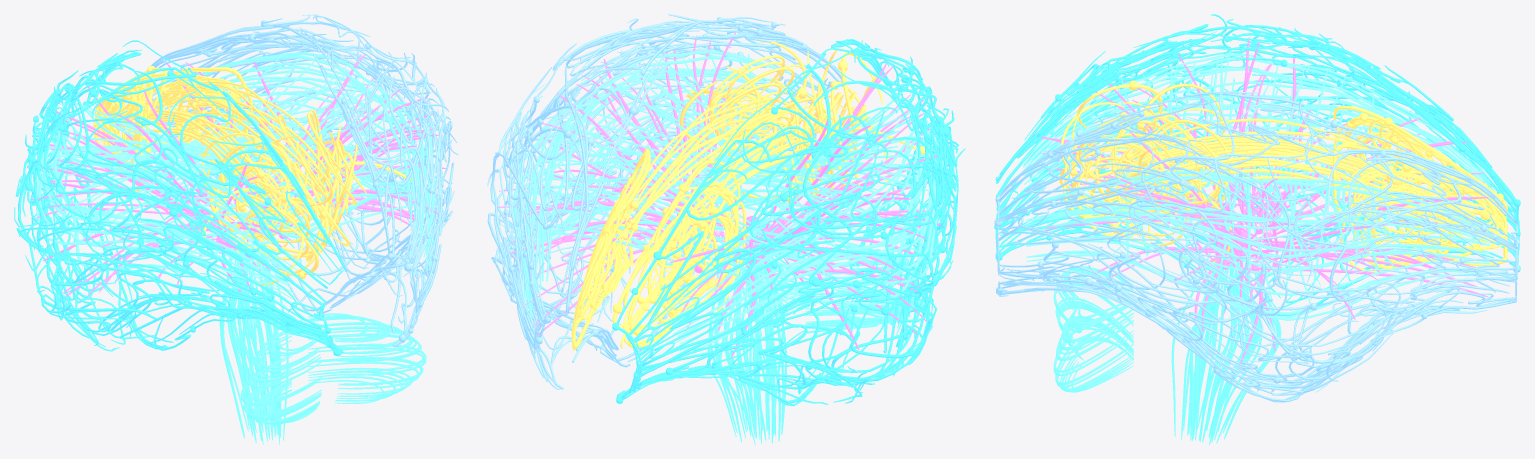
3 views of the same model, side by side, from view 1: azimuth 30°, elevation 25°; view 2: azimuth 150°, elevation 25°; view 3: azimuth 270°, elevation 25° (orthographic). The views are drawn at different scales.
Visible parts, largest first — view 1: Region_Cortical_Canopy_Left, Region_CorpusCallosum_Association, Region_Cortical_Canopy_Right, Region_DMN_PosteriorCingulate, Region_Cerebellum_Brainstem, Region_Thalamocortical_Core, Region_DMN_MedialFrontal; view 2: Region_Cortical_Canopy_Left, Region_CorpusCallosum_Association, Region_Cortical_Canopy_Right, Region_DMN_PosteriorCingulate, Region_DMN_MedialFrontal, Region_Thalamocortical_Core, Region_Cerebellum_Brainstem; view 3: Region_Cortical_Canopy_Right, Region_CorpusCallosum_Association, Region_Cortical_Canopy_Left, Region_DMN_PosteriorCingulate, Region_Cerebellum_Brainstem, Region_Thalamocortical_Core, Region_DMN_MedialFrontal.
Part boxes in pixels (left/top/right/bottom): Region_Cortical_Canopy_Left: left=14, top=40, right=346, bottom=356; Region_CorpusCallosum_Association: left=35, top=50, right=436, bottom=307; Region_Cortical_Canopy_Right: left=135, top=14, right=458, bottom=347; Region_DMN_PosteriorCingulate: left=127, top=80, right=418, bottom=285; Region_Cerebellum_Brainstem: left=219, top=237, right=426, bottom=444; Region_Thalamocortical_Core: left=29, top=54, right=446, bottom=301; Region_DMN_MedialFrontal: left=93, top=66, right=252, bottom=191; Region_Cortical_Canopy_Left: left=612, top=39, right=965, bottom=406; Region_CorpusCallosum_Association: left=513, top=46, right=943, bottom=352; Region_Cortical_Canopy_Right: left=487, top=14, right=846, bottom=389; Region_DMN_PosteriorCingulate: left=611, top=41, right=929, bottom=272; Region_DMN_MedialFrontal: left=571, top=148, right=748, bottom=350; Region_Thalamocortical_Core: left=497, top=32, right=944, bottom=356; Region_Cerebellum_Brainstem: left=707, top=224, right=929, bottom=444; Region_Cortical_Canopy_Right: left=994, top=91, right=1519, bottom=402; Region_CorpusCallosum_Association: left=1023, top=50, right=1490, bottom=320; Region_Cortical_Canopy_Left: left=994, top=14, right=1520, bottom=316; Region_DMN_PosteriorCingulate: left=1059, top=80, right=1413, bottom=261; Region_Cerebellum_Brainstem: left=1053, top=253, right=1281, bottom=444; Region_Thalamocortical_Core: left=1032, top=37, right=1488, bottom=363; Region_DMN_MedialFrontal: left=1333, top=105, right=1507, bottom=272.
Bounding box in the file's own units: 1.51 × 1.3 × 1.66.
